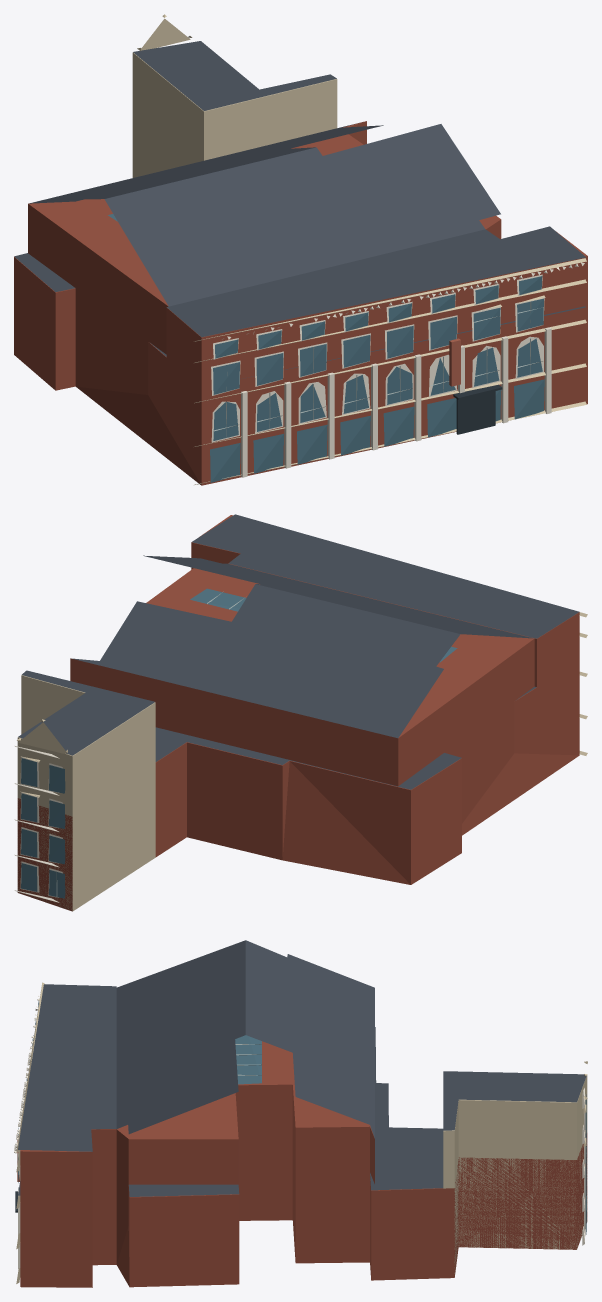
File: frascati.lod1.glb
3 views of the same model, one above another, from view 1: azimuth 30°, elevation 25°; view 2: azimuth 150°, elevation 25°; view 3: azimuth 270°, elevation 25° (orthographic). The views are drawn at different scales.
Visible parts, largest first — view 1: frascati; view 2: frascati; view 3: frascati.
Part boxes in pixels (<box>): frascati: <box>14,14,587,485</box>; frascati: <box>14,514,587,911</box>; frascati: <box>14,940,587,1287</box>.
Bounding box in the file's own units: 38.84 × 19.45 × 54.44.
